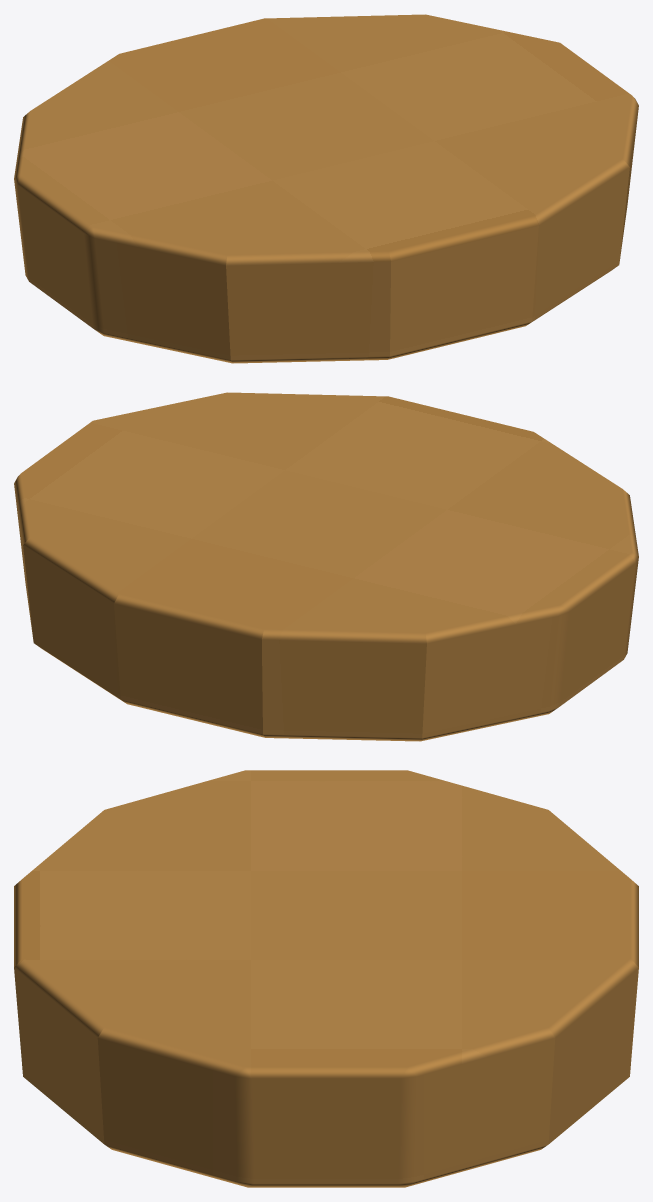
Rendered from Pump-collar.glb.
The picture shows the model from 3 angles, top to bottom: view 1: azimuth 30°, elevation 25°; view 2: azimuth 150°, elevation 25°; view 3: azimuth 270°, elevation 25°; orthographic projection. The views are drawn at different scales.
Parts seen in each view (by area): view 1: Pump-collar; view 2: Pump-collar; view 3: Pump-collar.
Boxes of the visible parts, x1,y1,x2,y2 form: Pump-collar: [14, 14, 638, 363]; Pump-collar: [14, 392, 638, 741]; Pump-collar: [14, 770, 638, 1187].
Size of the model in its own units: 0.1329 by 0.026 by 0.1157.
1 material, 1 textured.
